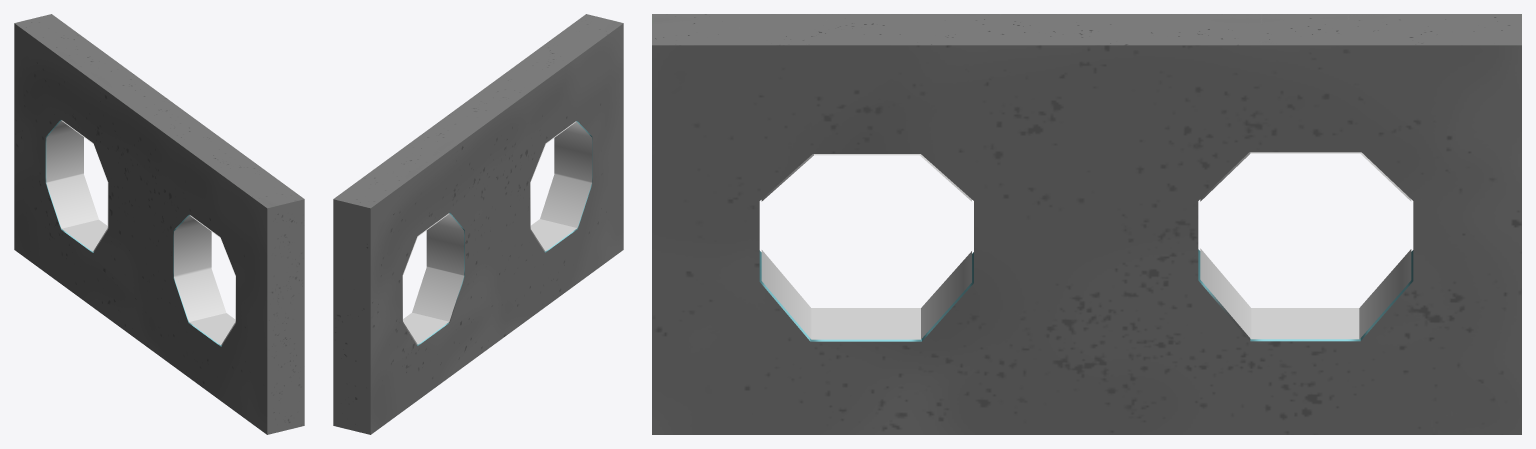
Rendered from Wall_model.fbx.
3 renders of one model, left to right at view 1: azimuth 30°, elevation 25°; view 2: azimuth 150°, elevation 25°; view 3: azimuth 270°, elevation 25°, orthographic. The views are drawn at different scales.
Visible parts, largest first — view 1: Box008, LEDsil; view 2: Box008, LEDsil; view 3: Box008, LEDsil.
Boxes of the visible parts, left/top/right/bottom form: Box008: left=14, top=14, right=304, bottom=434; LEDsil: left=46, top=120, right=235, bottom=345; Box008: left=333, top=14, right=623, bottom=434; LEDsil: left=402, top=121, right=591, bottom=344; Box008: left=652, top=14, right=1521, bottom=434; LEDsil: left=761, top=152, right=1411, bottom=339.
Bounding box in the file's own units: 5.03 × 29 × 58.7.
1 material, 1 textured.
